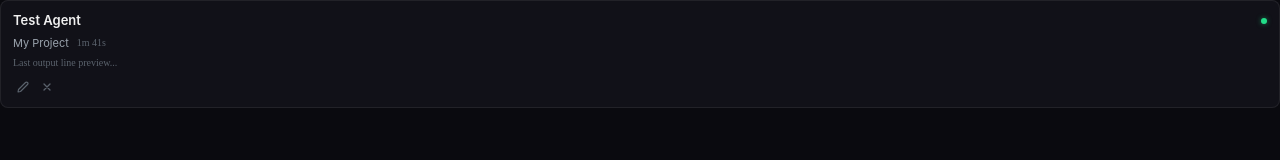
Test: AgentCard › shows close confirmation on X click
Click the button named "Close Test Agent" at point(47, 87), box [37,77,57,97]
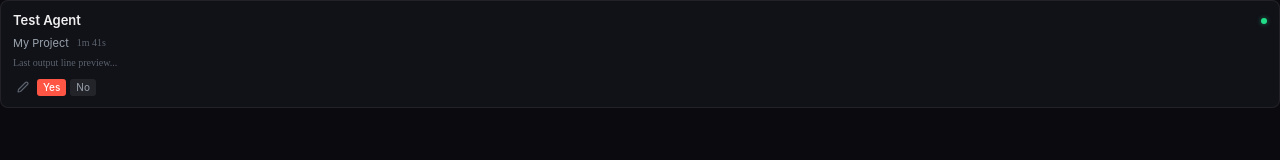
Expected: the element with test id "confirm-close-session-1" is shown, [37,78,96,96]
